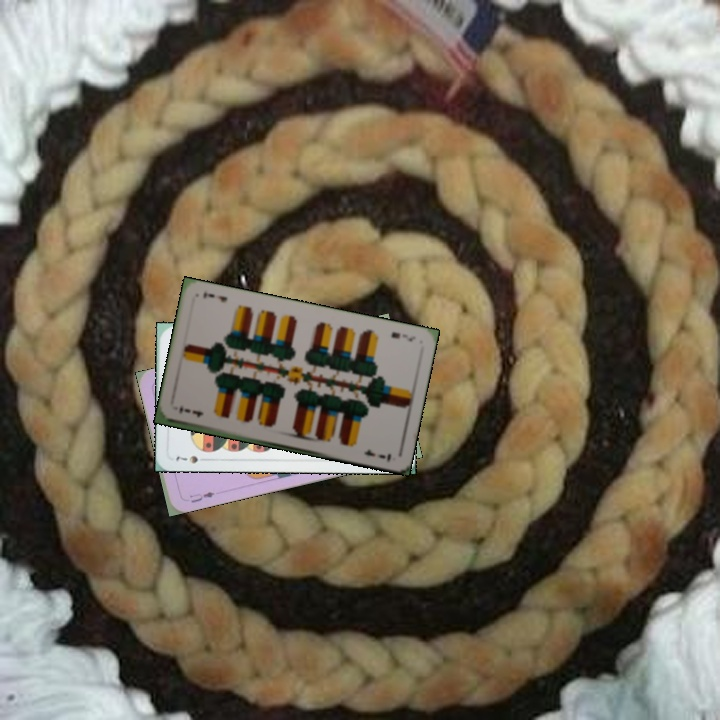E7: (175, 403, 205, 420), (387, 328, 418, 344)
EU: (185, 487, 217, 505)
S7: (172, 452, 200, 466)
